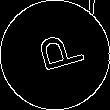P_W: (26, 30, 84, 80)
